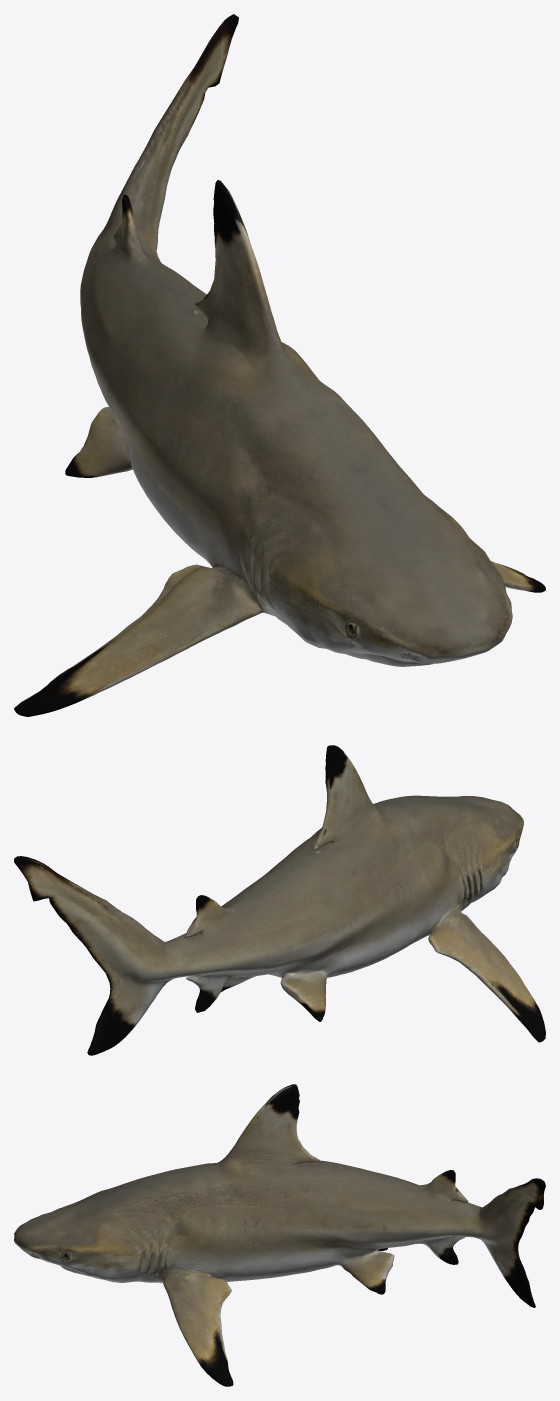
Rendered from reefshark.glb.
3 renders of one model, top to bottom at view 1: azimuth 30°, elevation 25°; view 2: azimuth 150°, elevation 25°; view 3: azimuth 270°, elevation 25°, orthographic. The views are drawn at different scales.
Parts seen in each view (by area): view 1: tripo_node_e114a666-e330-4bf6-886d-1ad3af025a5e; view 2: tripo_node_e114a666-e330-4bf6-886d-1ad3af025a5e; view 3: tripo_node_e114a666-e330-4bf6-886d-1ad3af025a5e.
Boxes of the visible parts, <box> form: tripo_node_e114a666-e330-4bf6-886d-1ad3af025a5e: <box>14,14,545,716</box>; tripo_node_e114a666-e330-4bf6-886d-1ad3af025a5e: <box>14,745,545,1055</box>; tripo_node_e114a666-e330-4bf6-886d-1ad3af025a5e: <box>14,1084,545,1386</box>.
Size of the model in its own units: 0.6232 by 0.4829 by 1.
Materials: 1 (1 with a texture image).
